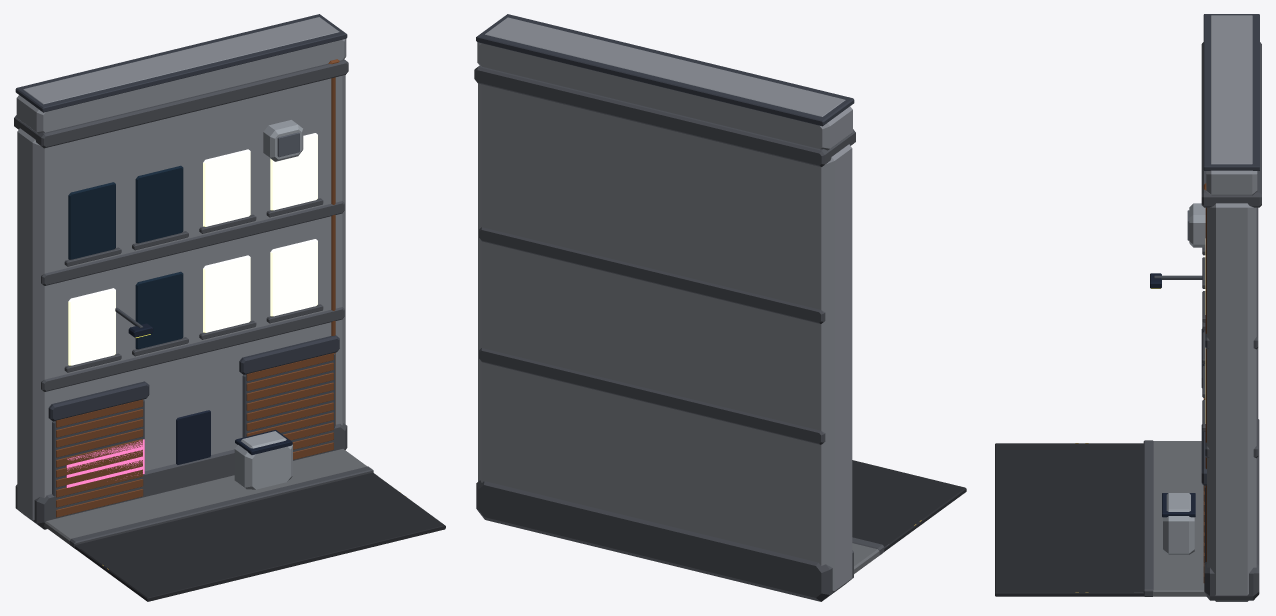
Rendered from spire_wall_boundary_v3.glb.
The picture shows the model from 3 angles, left to right: view 1: azimuth 30°, elevation 25°; view 2: azimuth 150°, elevation 25°; view 3: azimuth 270°, elevation 25°; orthographic projection. The views are drawn at different scales.
Visible parts, largest first — view 1: block_body, street_asphalt, block_parapet, street_pavement, block_cornice, block_plinth, block_coping, block_band0, block_band1, block_win1_1, block_win0_0, block_win1_0 (+32 smaller); view 2: block_body, block_parapet, block_plinth, block_cornice, street_asphalt, block_coping, block_band0, block_band1; view 3: street_asphalt, block_body, block_parapet, street_pavement, block_coping, street_kerb, shut_bin, block_cornice, block_plinth, block_ac, block_downpipe, block_band1 (+1 smaller).
Part boxes in pixels (bbox=[...]): block_body: bbox=[17, 75, 345, 520]; street_asphalt: bbox=[74, 472, 445, 601]; block_parapet: bbox=[16, 17, 346, 133]; street_pavement: bbox=[44, 449, 367, 544]; block_cornice: bbox=[14, 59, 348, 148]; block_plinth: bbox=[15, 423, 347, 529]; block_coping: bbox=[15, 14, 347, 112]; block_band0: bbox=[41, 307, 344, 391]; block_band1: bbox=[41, 201, 344, 285]; block_win1_1: bbox=[135, 165, 183, 243]; block_win0_0: bbox=[68, 288, 115, 365]; block_win1_0: bbox=[68, 182, 115, 259]; block_body: bbox=[478, 83, 852, 591]; block_parapet: bbox=[477, 17, 852, 150]; block_plinth: bbox=[476, 480, 853, 601]; block_cornice: bbox=[474, 65, 855, 166]; street_asphalt: bbox=[852, 460, 966, 551]; block_coping: bbox=[476, 14, 854, 126]; block_band0: bbox=[479, 348, 825, 444]; block_band1: bbox=[479, 227, 825, 323]; street_asphalt: bbox=[995, 443, 1144, 596]; block_body: bbox=[1207, 203, 1256, 601]; block_parapet: bbox=[1206, 15, 1257, 195]; street_pavement: bbox=[1153, 441, 1206, 596]; block_coping: bbox=[1203, 14, 1259, 170]; street_kerb: bbox=[1143, 440, 1153, 596]; shut_bin: bbox=[1163, 493, 1194, 554]; block_cornice: bbox=[1201, 42, 1261, 207]; block_plinth: bbox=[1204, 419, 1259, 600]; block_ac: bbox=[1189, 203, 1205, 247]; block_downpipe: bbox=[1205, 207, 1206, 561]; block_band1: bbox=[1205, 207, 1258, 349].
Bounding box in the file's own units: 10.5 × 13.75 × 7.55.
